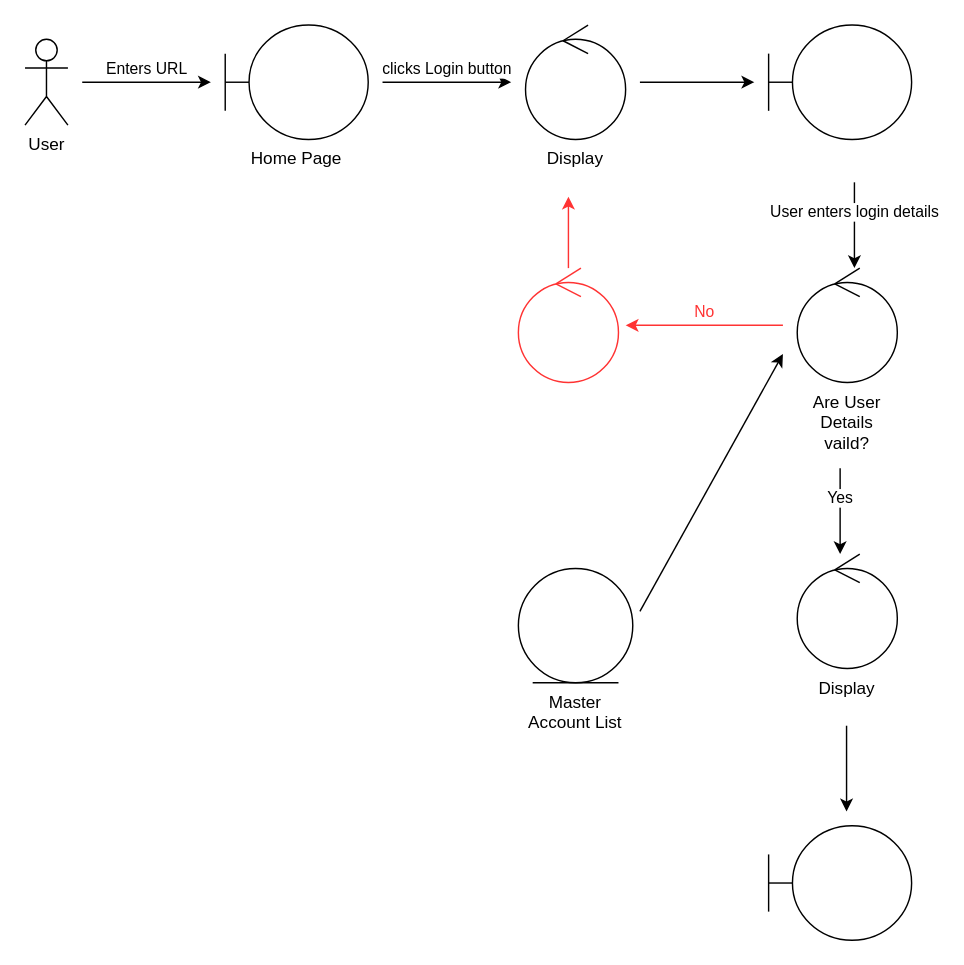
Image size: 964x965. Some labels were removed from this diagram. Each missing label, with the box of its shape:
Display Error Message: (517, 267, 618, 383)
Login Page: (767, 24, 912, 139)
User Page: (767, 824, 912, 940)
